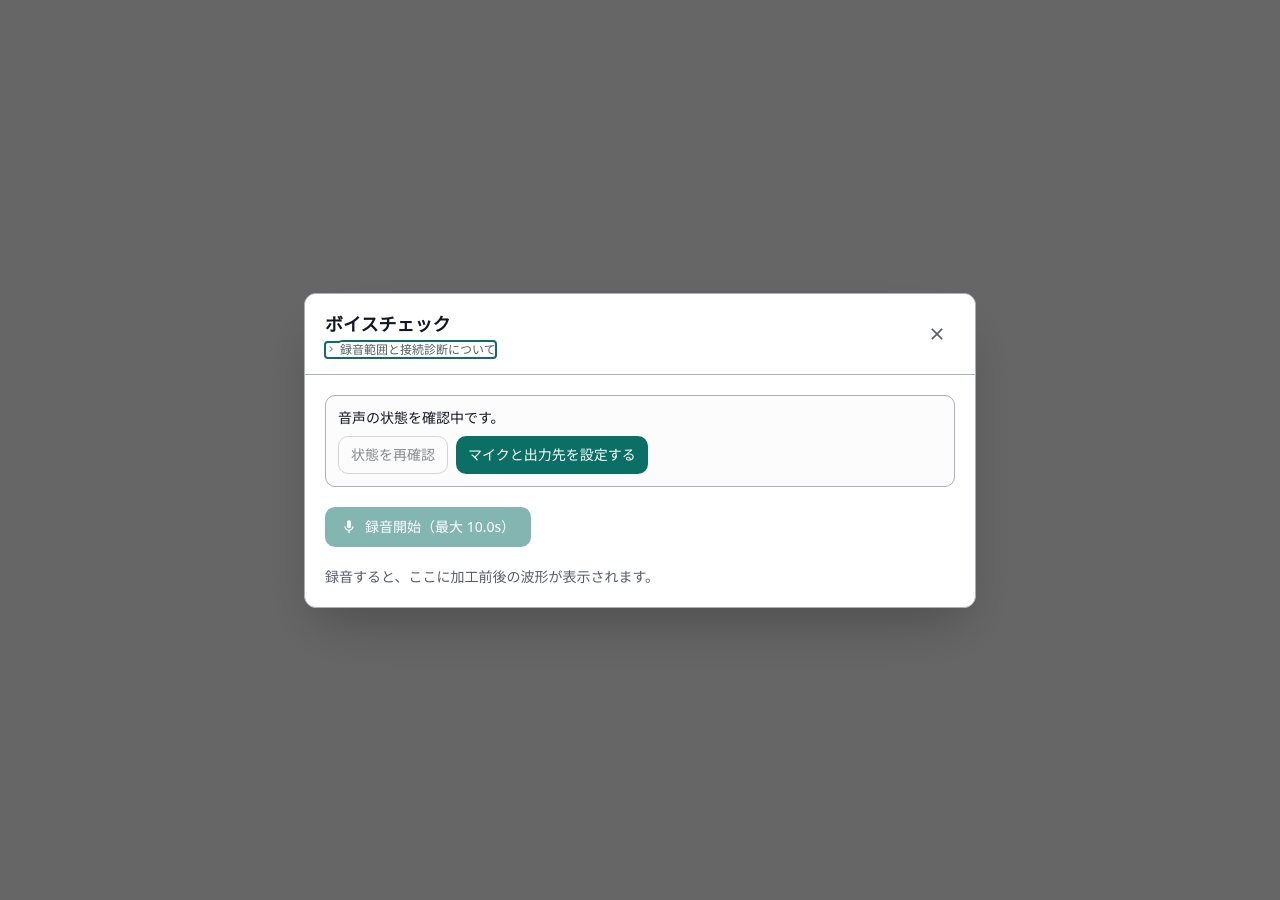
it: 声単体の録音地点をOBS最終ミックスと到達確認から区別する
Click the heading "録音範囲と接続診断について".
click(410, 350)  # box [325,342,496,358]
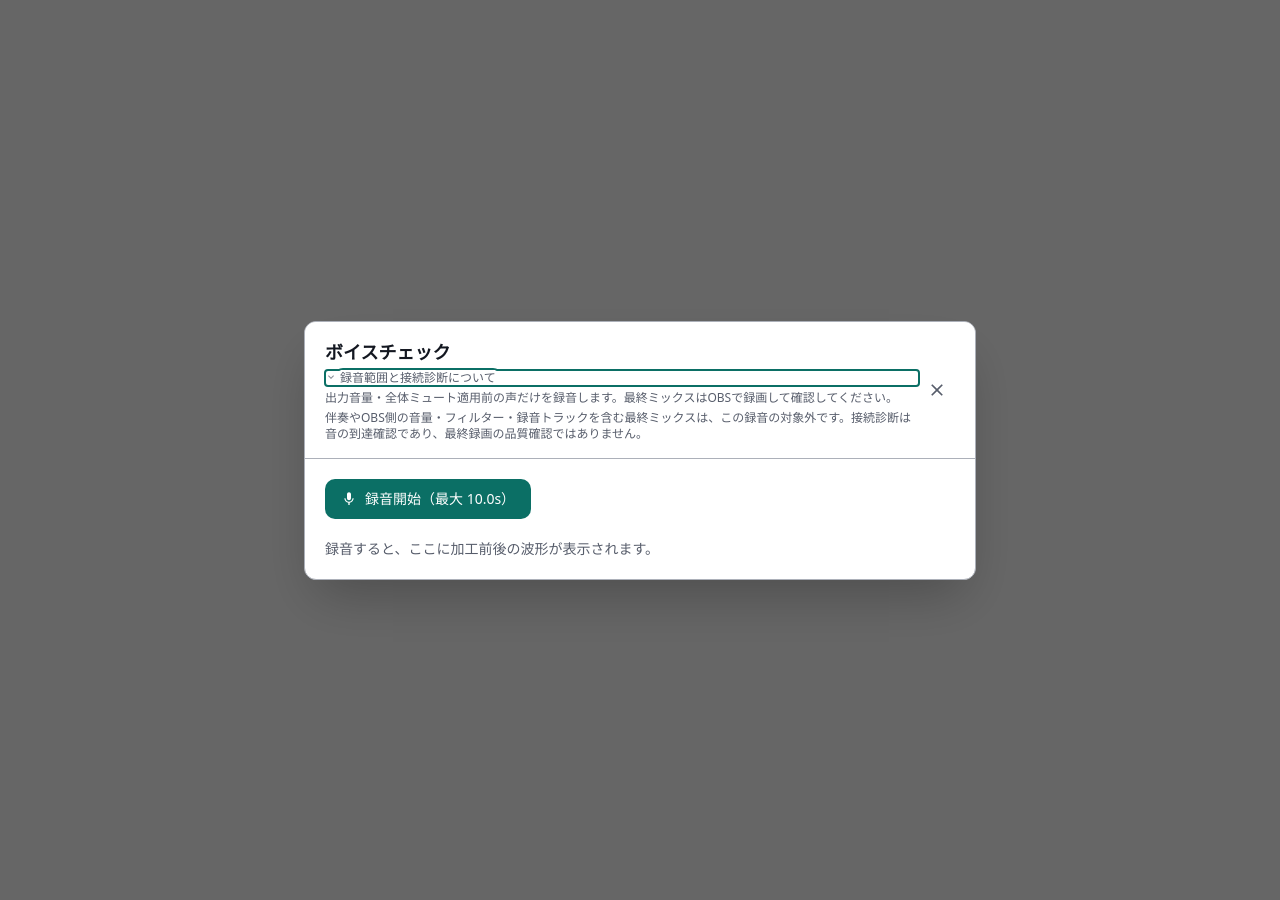
Now the text "録音範囲と接続診断について" shows "伴奏やOBS側の音量・フィルター・録音トラックを含む最終ミックスは、この録音の対象外", box [325,408,911,442]
Now the text "録音範囲と接続診断について" shows "接続診断は音の到達確認", box [325,408,911,442]
Now the button "録音開始（最大 10.0s）" is enabled, box [325,478,531,518]
